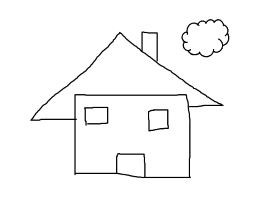chimney: (140, 27, 161, 62)
clouds: (181, 17, 230, 58)
door: (113, 148, 148, 179)
open_window: (148, 109, 169, 132), (84, 107, 108, 124)
roof: (30, 31, 224, 121)
wall: (75, 94, 191, 178)
